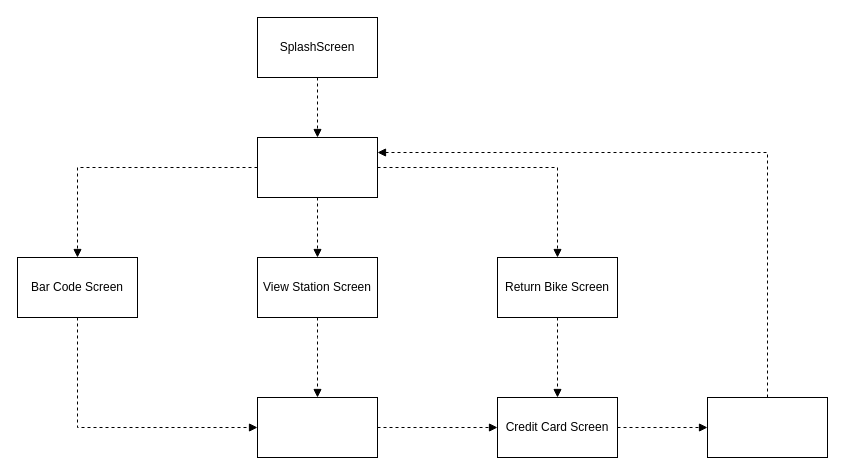
The diagram is 845 pixels wide and 475 high, and some of its shapes have lost their labels. The shapes that lost their labels are listed below. From the top down, each one's box as (x1, y1, x2, y2) in pixels, then its label:
(256, 136, 378, 198): Home Screen
(256, 396, 378, 458): View Bike Screen
(706, 396, 828, 458): Transaction Screen
